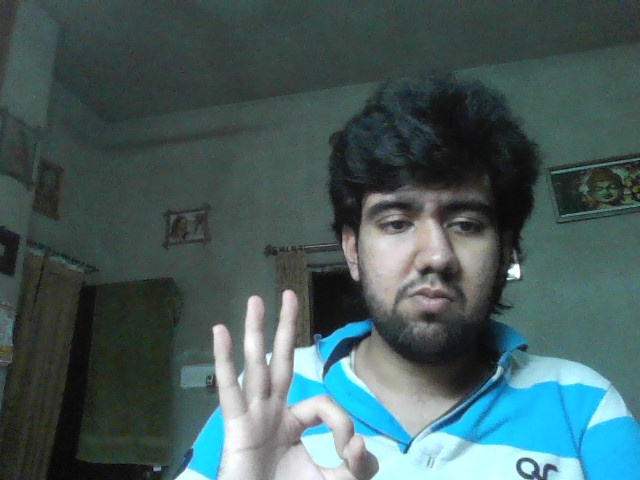Nice: (212, 289, 380, 480)
